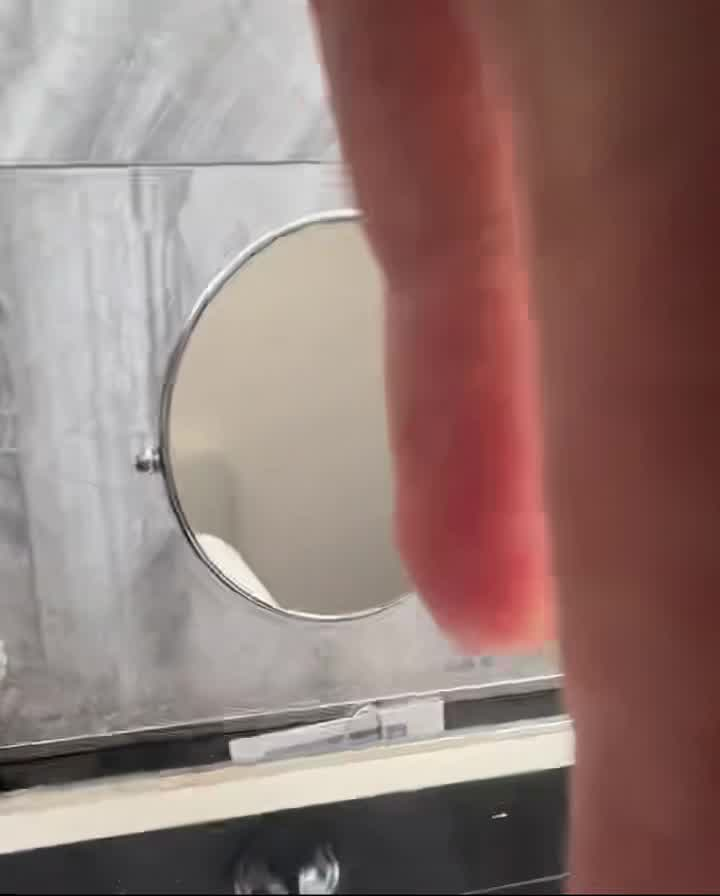mirror: (154, 221, 429, 643)
screw: (134, 448, 163, 491)
